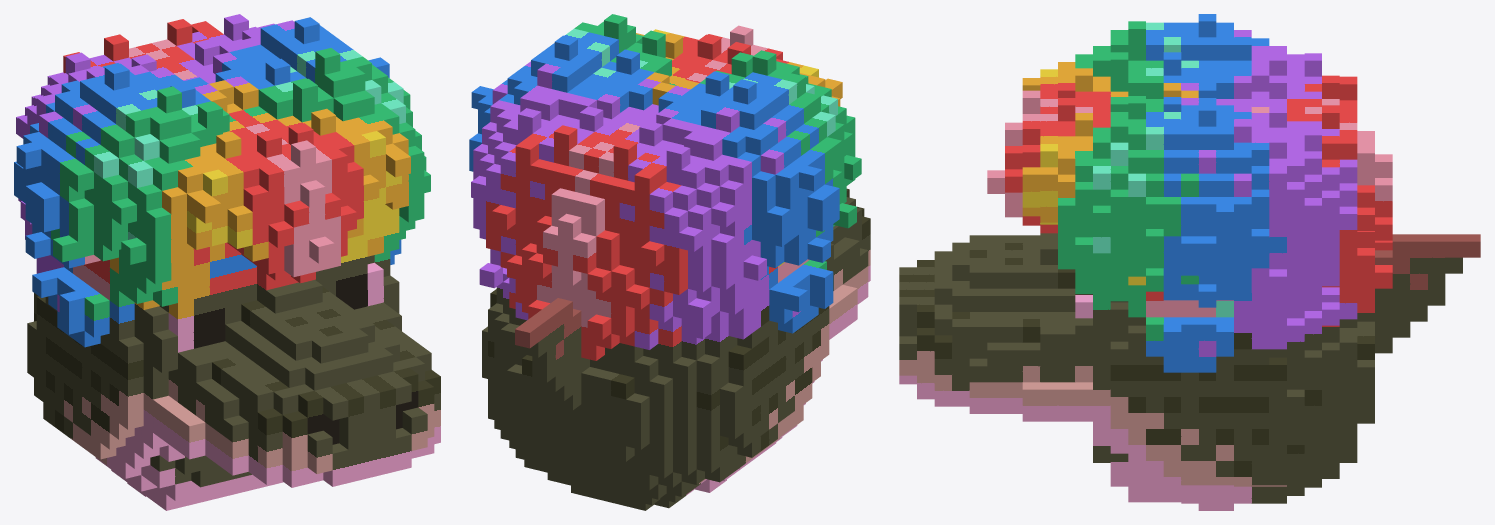
Rendered from clown wig_red glasses.gltf.
3 views of the same model, side by side, from view 1: azimuth 30°, elevation 25°; view 2: azimuth 150°, elevation 25°; view 3: azimuth 270°, elevation 25° (orthographic). The views are drawn at different scales.
Parts seen in each view (by area): view 1: C08_H_ClownW_RedG_RainbowSpec-Mesh; view 2: C08_H_ClownW_RedG_RainbowSpec-Mesh; view 3: C08_H_ClownW_RedG_RainbowSpec-Mesh.
Boxes of the visible parts, bbox=[...] form: C08_H_ClownW_RedG_RainbowSpec-Mesh: bbox=[14, 14, 440, 510]; C08_H_ClownW_RedG_RainbowSpec-Mesh: bbox=[469, 14, 870, 510]; C08_H_ClownW_RedG_RainbowSpec-Mesh: bbox=[899, 14, 1480, 510].
Bounding box in the file's own units: 23 × 26 × 33.
Materials: 1 (1 with a texture image).
